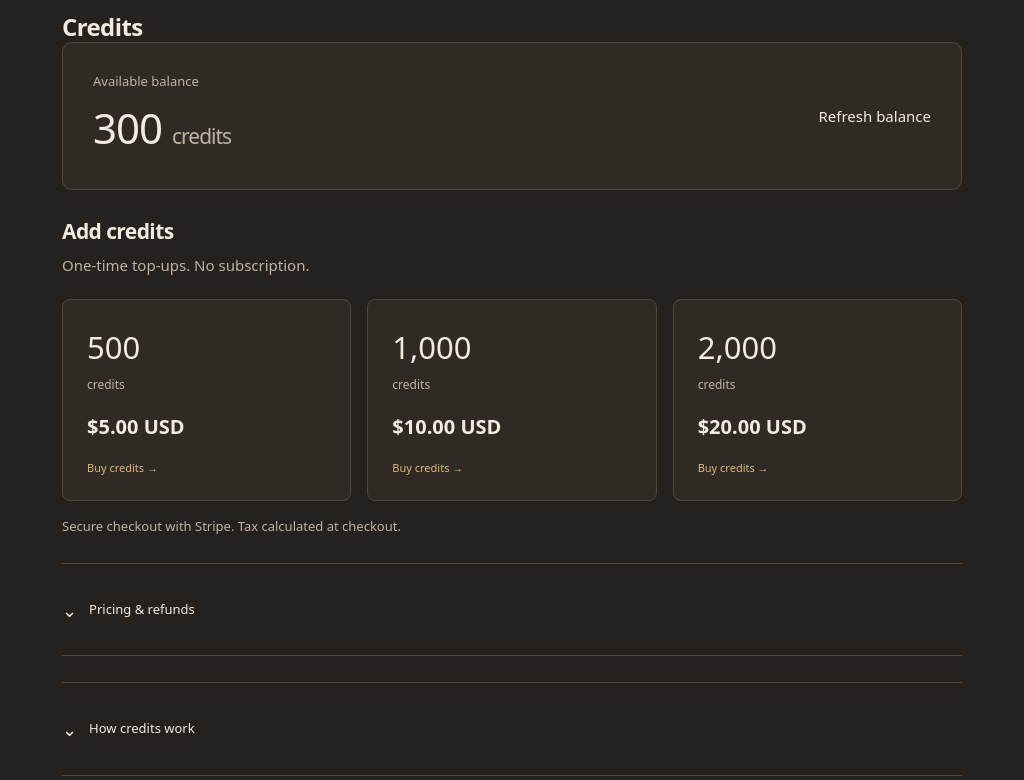
offers dollar-priced packs and recovers from checkout failure
Expected: the text "300" is shown, [93, 98, 162, 156]
Click the button with aria-label "Buy 500 credits — $5 USD" at [114, 347], box [62, 299, 351, 501]
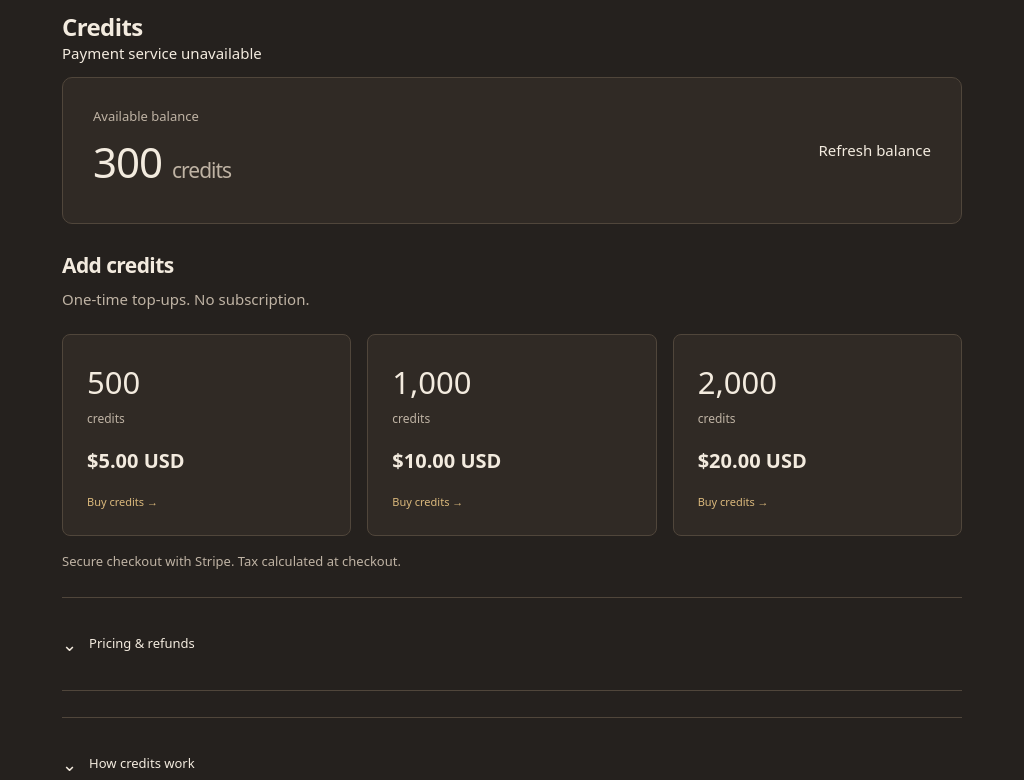
Expected: the button with aria-label "Buy 500 credits — $5 USD" is enabled, [62, 334, 351, 536]
Now the message "Payment service unavailable" is shown, box [62, 43, 262, 63]
